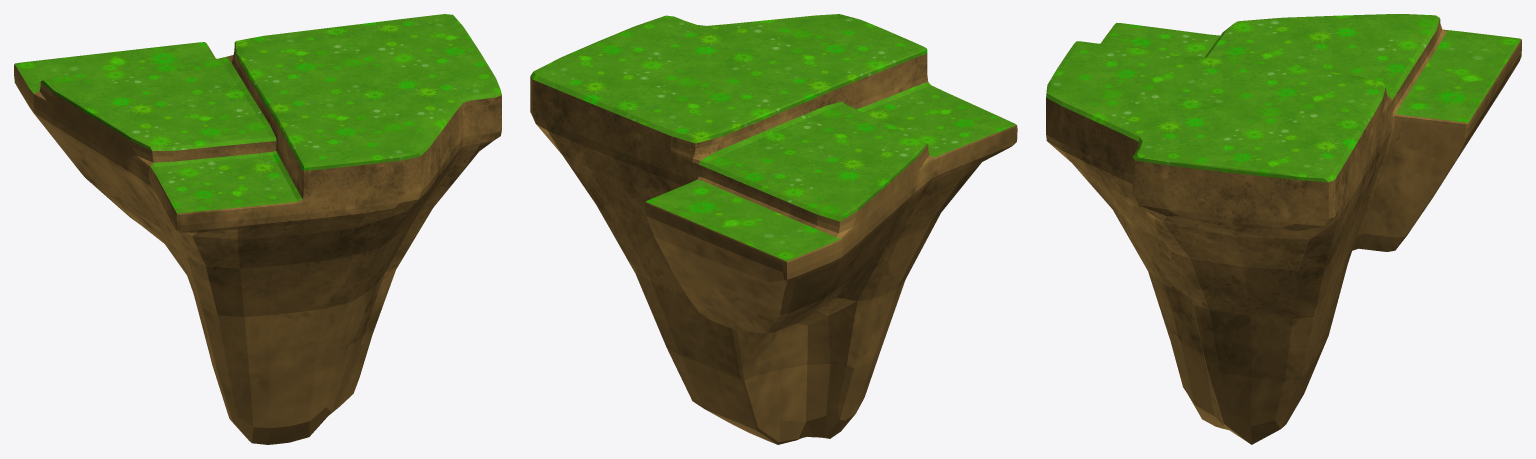
Rendered from islandLV2part2.fbx.
The picture shows the model from 3 angles, left to right: view 1: azimuth 30°, elevation 25°; view 2: azimuth 150°, elevation 25°; view 3: azimuth 270°, elevation 25°; orthographic projection. The views are drawn at different scales.
Parts seen in each view (by area): view 1: Cube; view 2: Cube; view 3: Cube.
Part boxes in pixels (x1=…): Cube: x1=14, y1=14, x2=501, y2=444; Cube: x1=530, y1=14, x2=1017, y2=444; Cube: x1=1046, y1=14, x2=1521, y2=444.
Bounding box in the file's own units: 37865 × 32455 × 39688.
